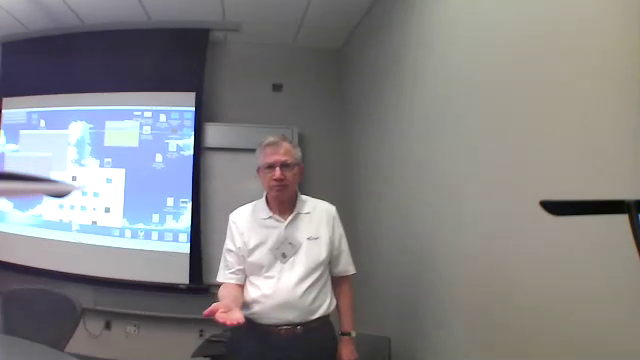land: (196, 296, 255, 330)
